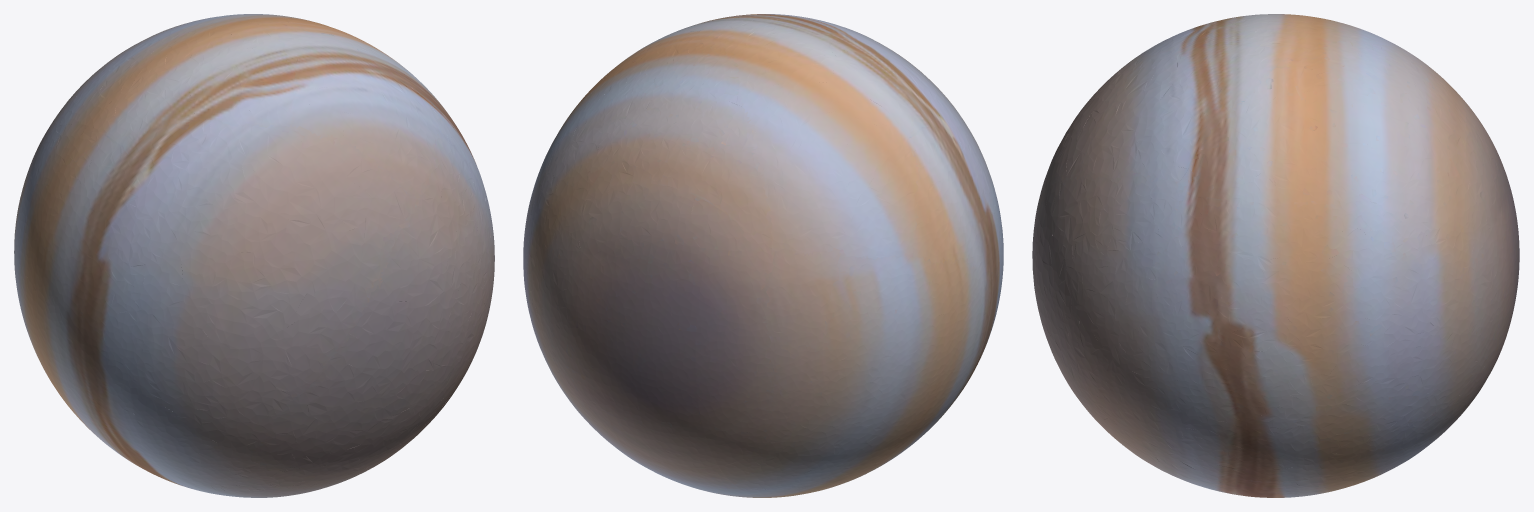
File: planet_1.glb
3 renders of one model, left to right at view 1: azimuth 30°, elevation 25°; view 2: azimuth 150°, elevation 25°; view 3: azimuth 270°, elevation 25°, orthographic.
Visible parts, largest first — view 1: geometry_0; view 2: geometry_0; view 3: geometry_0.
Part boxes in pixels (x1,y1,x2,y2): geometry_0: (14,14,494,497); geometry_0: (523,14,1003,497); geometry_0: (1032,14,1519,497).
Bounding box in the file's own units: 0.2438 × 0.2472 × 0.2481.
Materials: 1 (1 with a texture image).
